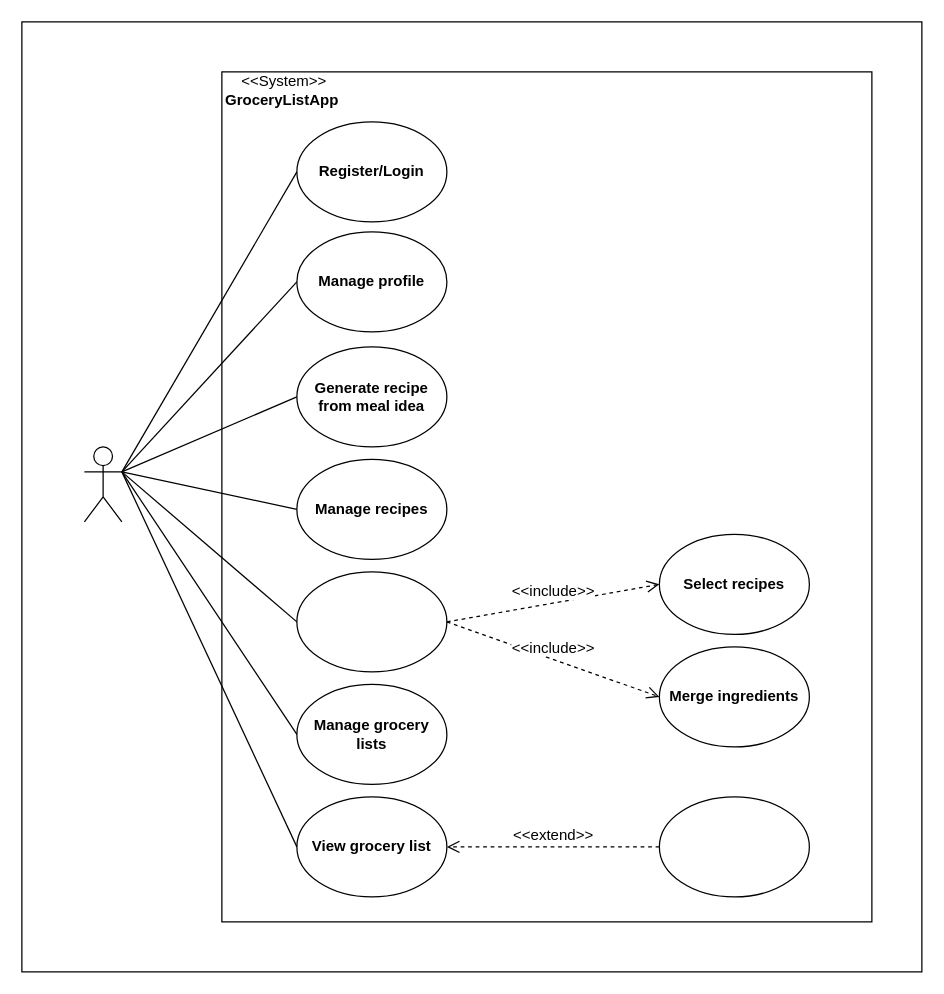
The diagram is 944 pixels wide and 994 high, and some of its shapes have lost their labels. The centre of each missing label's shape, as x and y in pixels:
Check off items: (x=733, y=846)
Create grocery list from recipes: (x=371, y=621)
User: (x=102, y=484)
